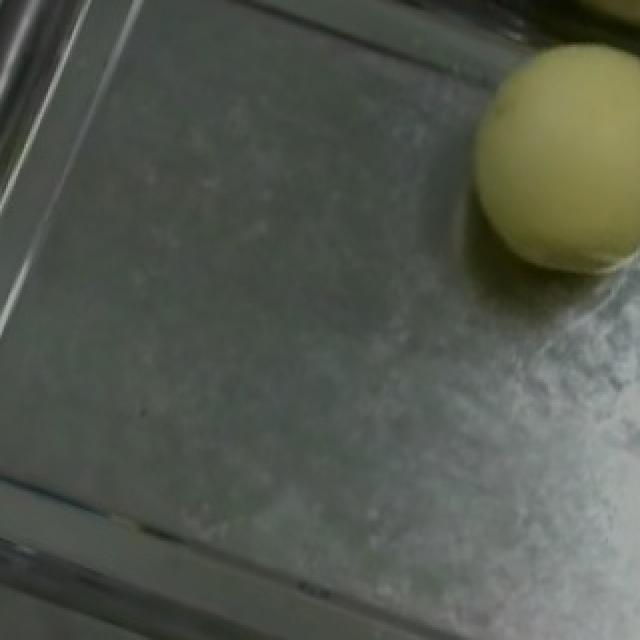Fruit: (422, 5, 640, 315)
